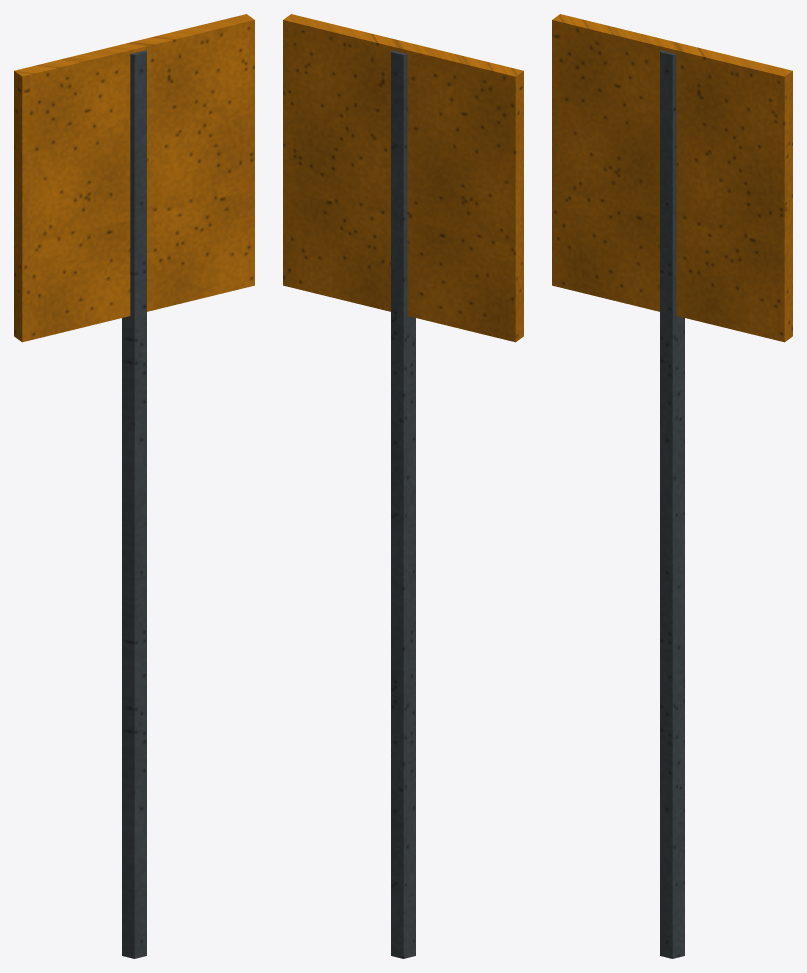
Rendered from PROP-7695E368A5D3_lod2.glb.
3 renders of one model, left to right at view 1: azimuth 30°, elevation 25°; view 2: azimuth 150°, elevation 25°; view 3: azimuth 330°, elevation 25°, orthographic.
Visible parts, largest first — view 1: sign_plate.006, sign_post.008; view 2: sign_plate.006, sign_post.008; view 3: sign_plate.006, sign_post.008.
Boxes of the visible parts, bbox=[...] form: sign_plate.006: bbox=[14, 14, 254, 342]; sign_post.008: bbox=[122, 50, 146, 958]; sign_plate.006: bbox=[283, 14, 523, 342]; sign_post.008: bbox=[391, 50, 415, 958]; sign_plate.006: bbox=[552, 14, 792, 342]; sign_post.008: bbox=[660, 50, 684, 958].
Size of the model in its own units: 0.66 by 2.46 by 0.0606.
Materials: 2 (2 with a texture image).
